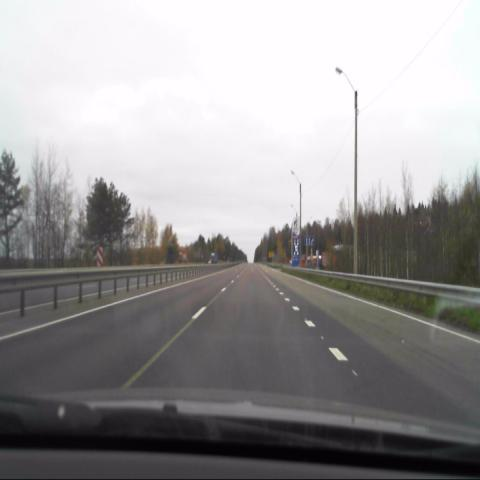5_15_1: (304, 235, 315, 246)
